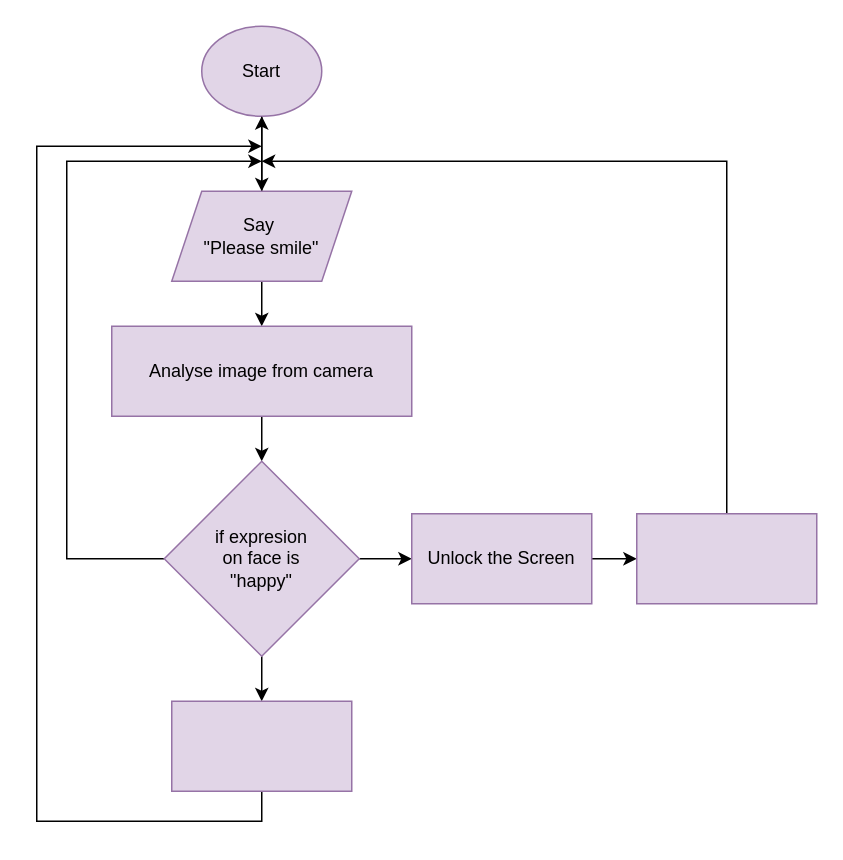
This 843x860 diagram has some shape labels left out. The shapes that lost their labels are listed below. From the top down, each one's centre as x and y in pixels, then its label:
the point at 726,558: Wait for 10 minutes
the point at 261,745: LOCK the Screen
